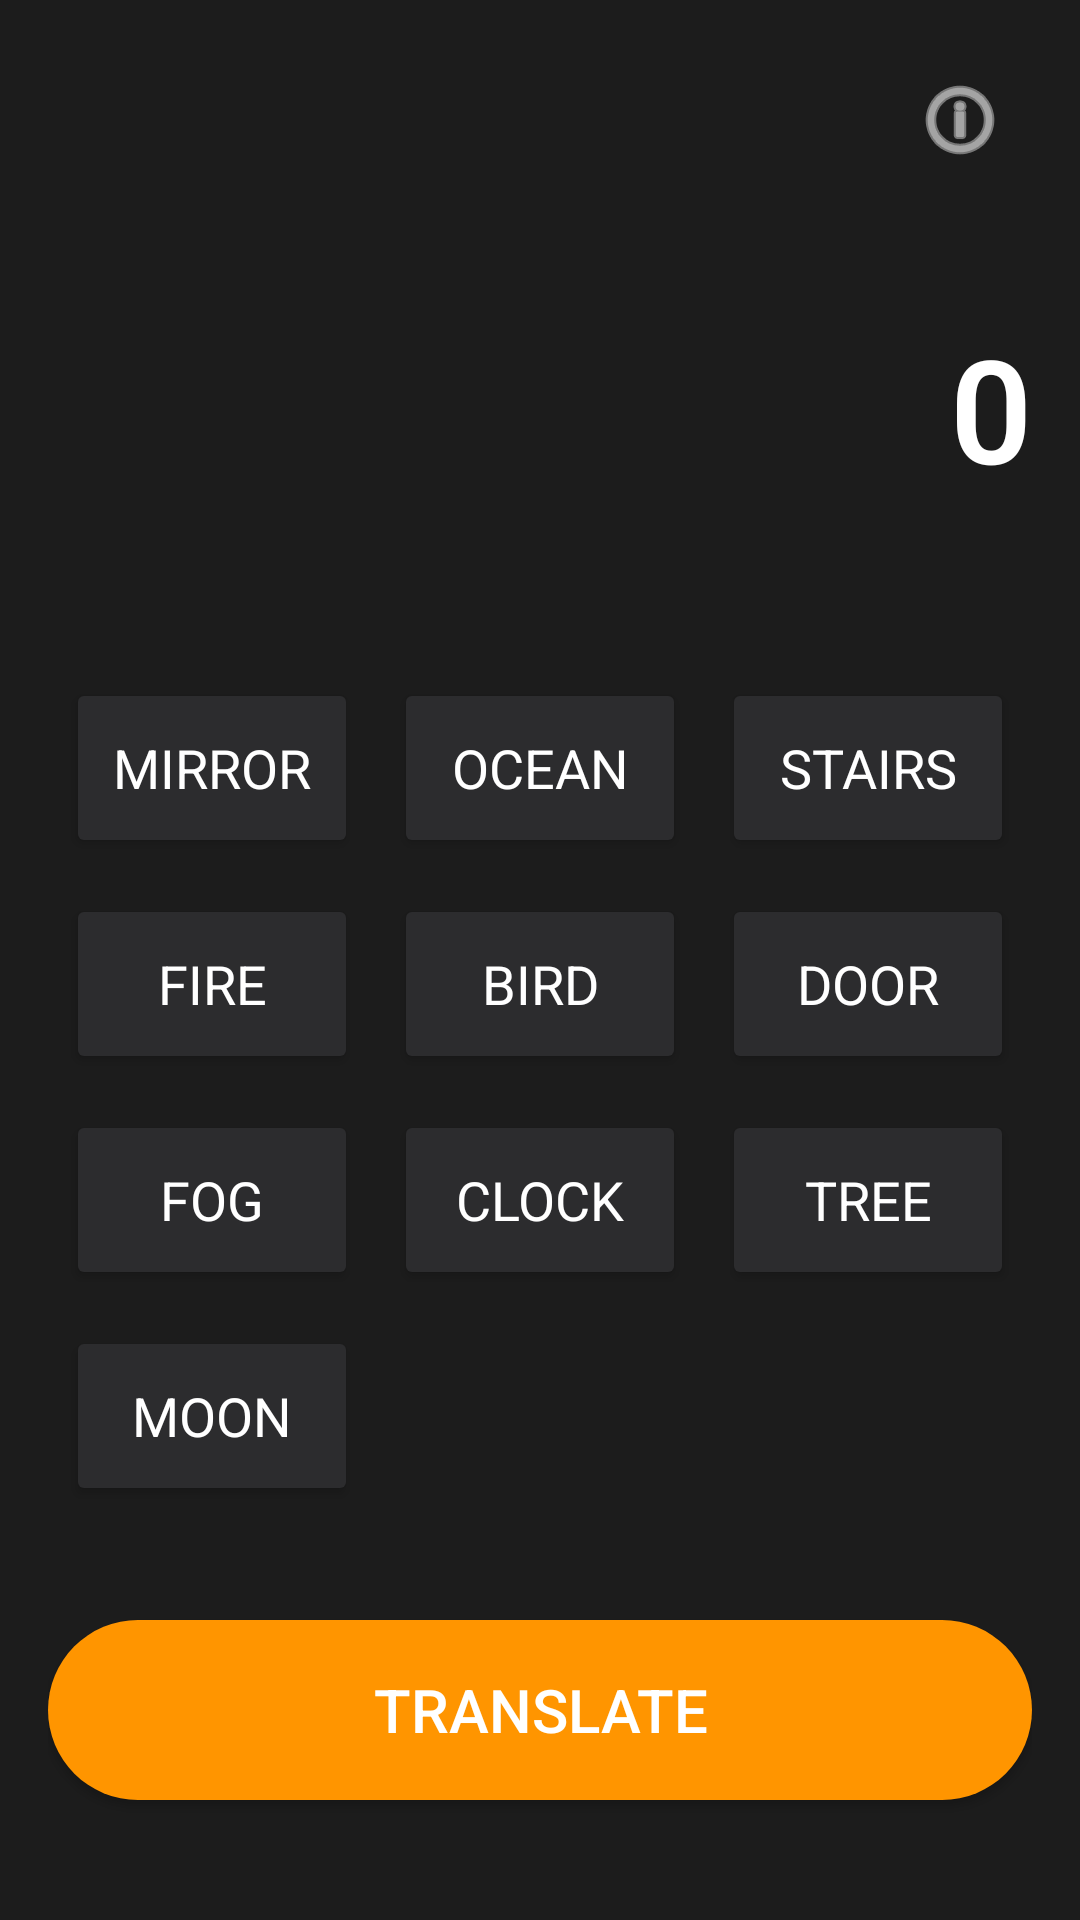

Where to tap for icons on this 1080x1920 app screen, as (x,y):
Info: (960,120)
